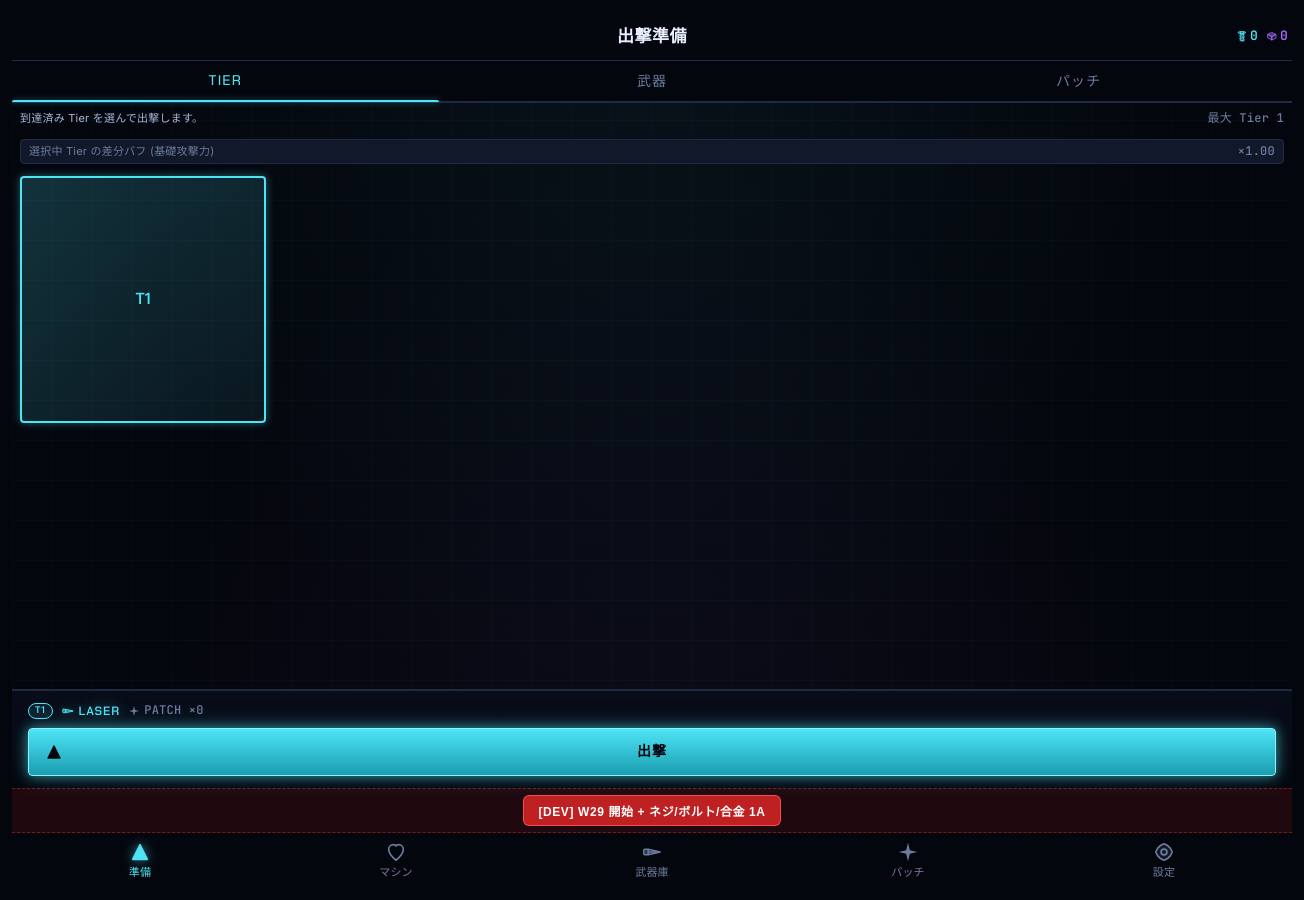
it: PreparationScreen Page › タブ切替: 「TIER」→「武器」→「TIER」で元に戻る
Click the tab "武器" at point(652, 81), box [439,61,865,101]
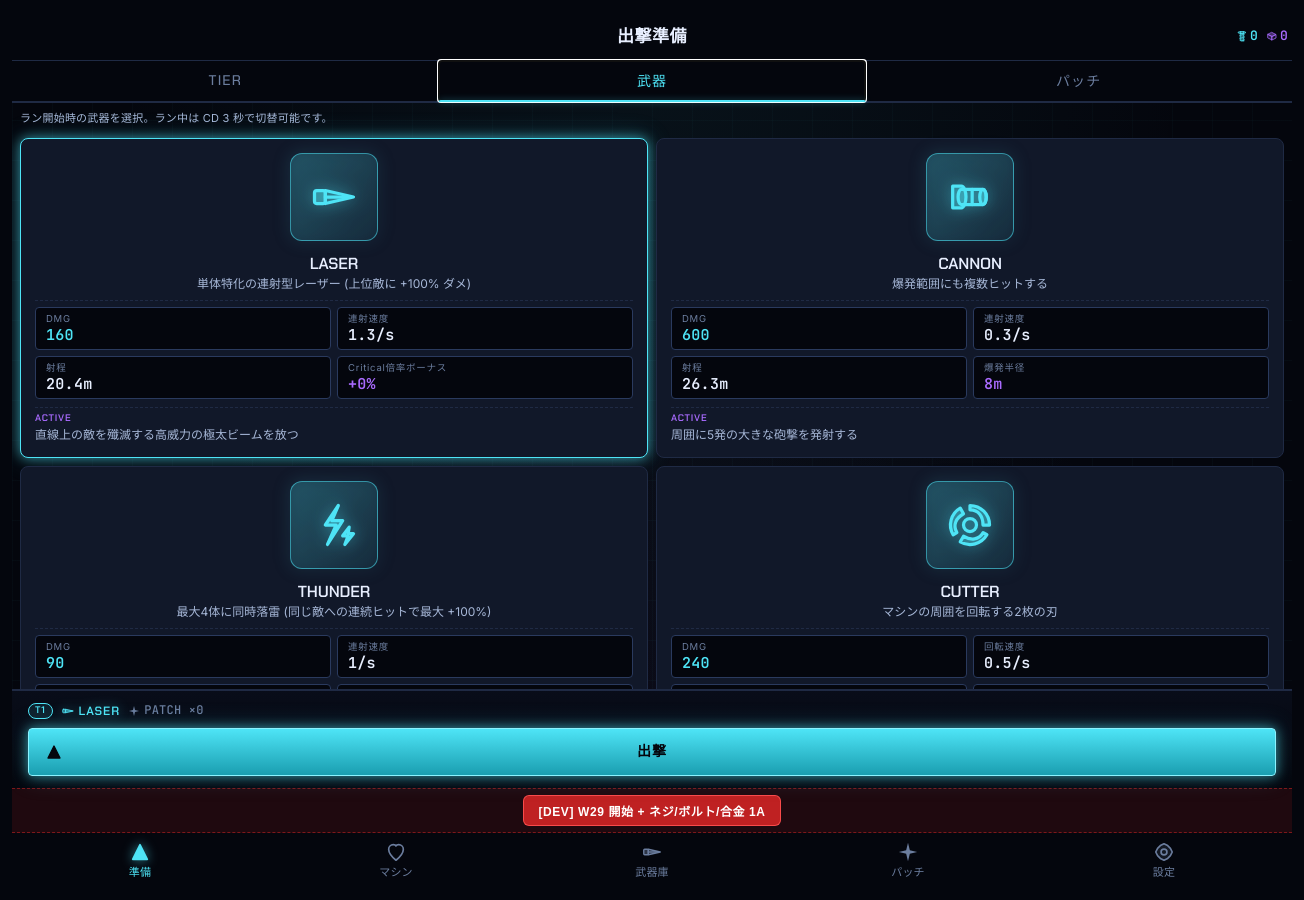
Click the tab "TIER" at point(225, 81), box [12,61,439,101]
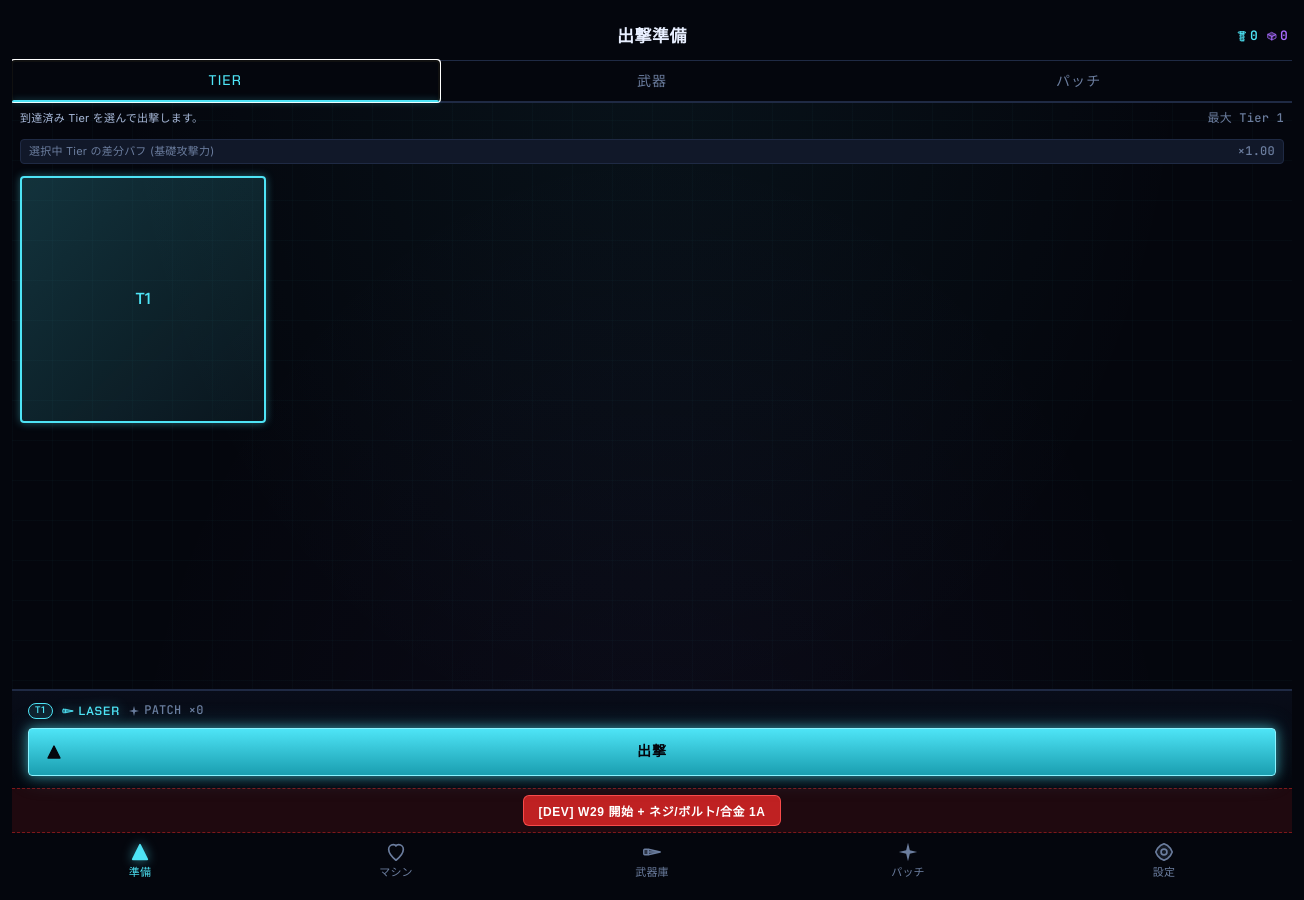
expect the panel named "Tier 選択" is shown: met, box [20,111,1284,423]
